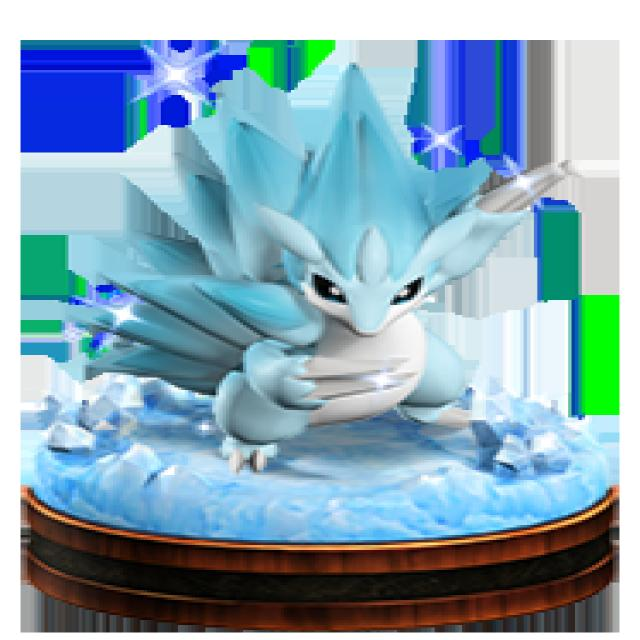Alolan: (93, 97, 585, 460)
